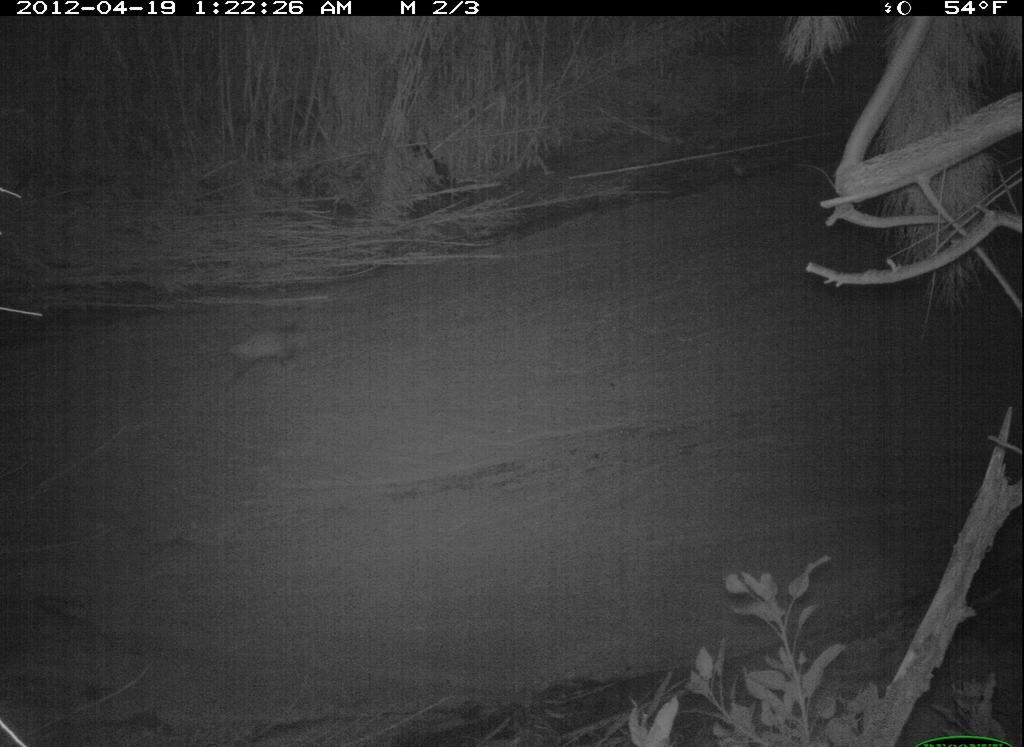opossum: (219, 313, 327, 386)
